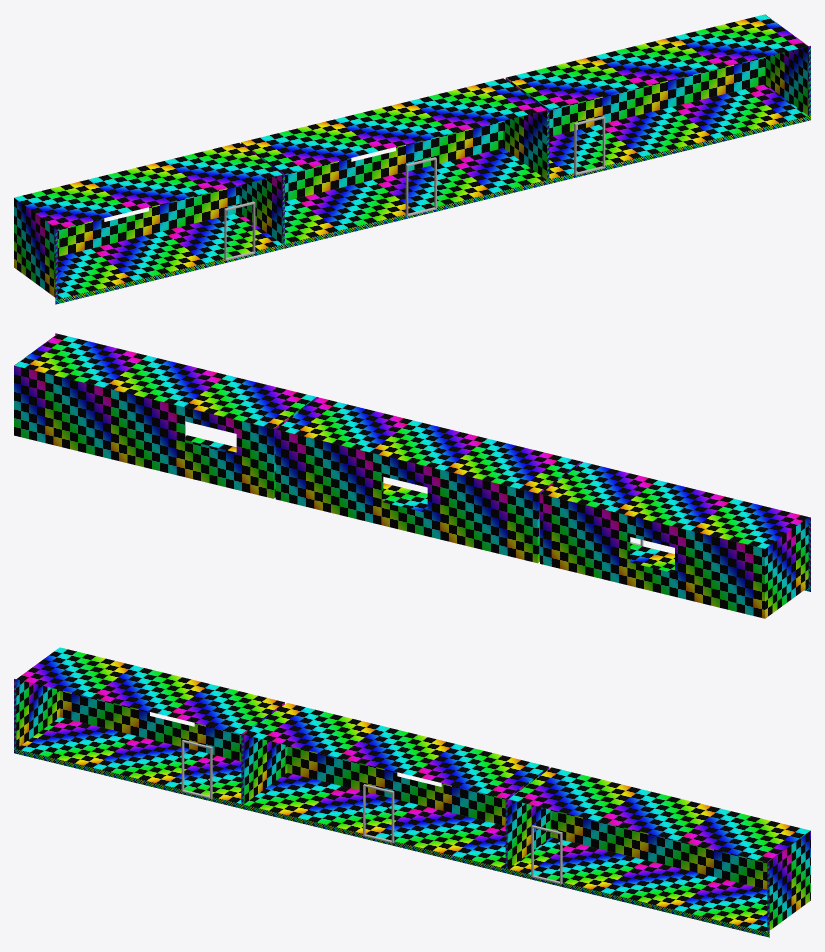
File: BackUpper.FBX
The picture shows the model from 3 angles, top to bottom: view 1: azimuth 30°, elevation 25°; view 2: azimuth 150°, elevation 25°; view 3: azimuth 330°, elevation 25°; orthographic projection.
Visible parts, largest first — view 1: BackUpperTwinsCeiling, BackUpperBathCeiling, BackUpperTwinsFloor, BackUpperBathFloor, BackUpperChildWall, BackUpperChildCeiling, BackUpperChildFloor, BackUpperBathWall, BackUpperTwinsWall, BackUpperBeams, BackUpperDoorFrameBath, BackUpperDoorFrameChild (+1 smaller); view 2: BackUpperChildWall, BackUpperTwinsWall, BackUpperBathWall, BackUpperTwinsCeiling, BackUpperBathCeiling, BackUpperChildCeiling, BackUpperTwinsFloor, BackUpperChildFloor; view 3: BackUpperTwinsCeiling, BackUpperBathCeiling, BackUpperBathWall, BackUpperTwinsFloor, BackUpperBathFloor, BackUpperChildCeiling, BackUpperChildFloor, BackUpperTwinsWall, BackUpperChildWall, BackUpperBeams, BackUpperDoorFrameTwins, BackUpperDoorFrameChild.
Boxes of the visible parts, x1=… form: BackUpperTwinsCeiling: x1=241, y1=78, x2=546, y2=173; BackUpperBathCeiling: x1=506, y1=14, x2=808, y2=109; BackUpperTwinsFloor: x1=285, y1=148, x2=546, y2=243; BackUpperBathFloor: x1=549, y1=84, x2=808, y2=179; BackUpperChildWall: x1=14, y1=174, x2=282, y2=297; BackUpperChildCeiling: x1=14, y1=143, x2=282, y2=229; BackUpperChildFloor: x1=57, y1=212, x2=282, y2=299; BackUpperBathWall: x1=505, y1=46, x2=808, y2=136; BackUpperTwinsWall: x1=241, y1=110, x2=546, y2=201; BackUpperBeams: x1=55, y1=46, x2=810, y2=304; BackUpperDoorFrameBath: x1=574, y1=116, x2=605, y2=175; BackUpperDoorFrameChild: x1=224, y1=201, x2=255, y2=260; BackUpperChildWall: x1=540, y1=494, x2=808, y2=618; BackUpperTwinsWall: x1=275, y1=429, x2=581, y2=563; BackUpperBathWall: x1=14, y1=365, x2=317, y2=498; BackUpperTwinsCeiling: x1=276, y1=397, x2=580, y2=493; BackUpperBathCeiling: x1=14, y1=333, x2=316, y2=428; BackUpperChildCeiling: x1=540, y1=462, x2=808, y2=548; BackUpperTwinsFloor: x1=383, y1=483, x2=427, y2=512; BackUpperChildFloor: x1=630, y1=543, x2=674, y2=573; BackUpperTwinsCeiling: x1=244, y1=703, x2=548, y2=798; BackUpperBathCeiling: x1=508, y1=767, x2=810, y2=862; BackUpperBathWall: x1=507, y1=799, x2=810, y2=930; BackUpperTwinsFloor: x1=244, y1=772, x2=505, y2=868; BackUpperBathFloor: x1=508, y1=837, x2=767, y2=932; BackUpperChildCeiling: x1=16, y1=647, x2=284, y2=733; BackUpperChildFloor: x1=16, y1=717, x2=241, y2=803; BackUpperTwinsWall: x1=243, y1=735, x2=549, y2=825; BackUpperChildWall: x1=16, y1=679, x2=284, y2=761; BackUpperBeams: x1=14, y1=679, x2=769, y2=937; BackUpperDoorFrameTwins: x1=363, y1=784, x2=394, y2=843; BackUpperDoorFrameChild: x1=181, y1=740, x2=212, y2=798.
Size of the model in its own units: 1336 by 126 by 138.
